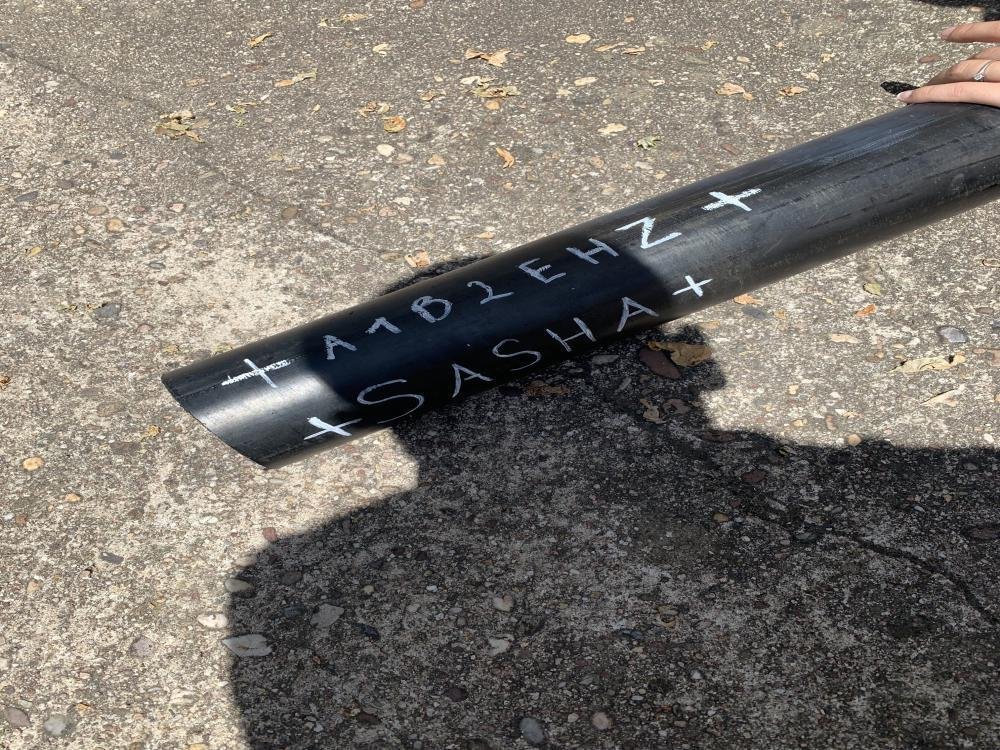+: (224, 358, 294, 389), (702, 189, 763, 211), (304, 417, 360, 440), (672, 274, 714, 298)
1: (366, 316, 402, 336)
2: (467, 280, 515, 304)
A: (619, 296, 662, 332), (450, 364, 492, 400), (324, 334, 358, 360)
B: (411, 296, 453, 324)
E: (521, 258, 566, 284)
H: (546, 317, 598, 352), (568, 238, 618, 264)
S: (358, 379, 426, 425), (493, 338, 542, 372)
Z: (616, 218, 680, 249)
